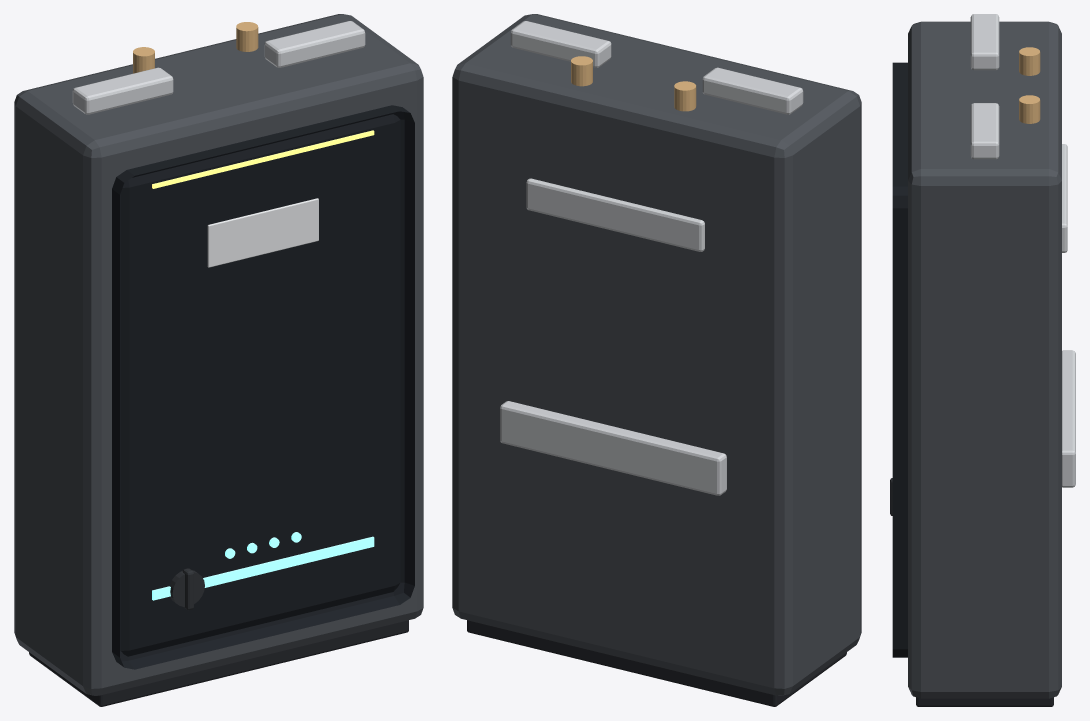
The model's file is inverter_battery.glb.
3 renders of one model, left to right at view 1: azimuth 30°, elevation 25°; view 2: azimuth 150°, elevation 25°; view 3: azimuth 270°, elevation 25°, orthographic. The views are drawn at different scales.
Parts seen in each view (by area): view 1: BAT_Glass, BAT_Shell, BAT_Badge, BAT_Plinth, BAT_HandleL, BAT_HandleR, BAT_LEDbar, BAT_Accent, INV_Iso, BAT_TermP; view 2: BAT_Shell, BAT_Bracket, INV_Bracket, BAT_Plinth, BAT_HandleL, BAT_HandleR, BAT_TermN, BAT_TermP; view 3: BAT_Shell, BAT_Glass, BAT_Bracket, BAT_HandleR, BAT_HandleL, BAT_Plinth, INV_Bracket, BAT_TermN, BAT_TermP.
Boxes of the visible parts, <box> form: BAT_Glass: <box>112,105,414,669</box>; BAT_Shell: <box>14,14,423,695</box>; BAT_Badge: <box>207,198,318,267</box>; BAT_Plinth: <box>29,620,408,706</box>; BAT_HandleL: <box>72,67,173,114</box>; BAT_HandleR: <box>264,21,365,67</box>; BAT_LEDbar: <box>152,536,374,600</box>; BAT_Accent: <box>152,130,374,188</box>; INV_Iso: <box>169,570,204,606</box>; BAT_TermP: <box>236,22,258,51</box>; BAT_Shell: <box>452,14,861,695</box>; BAT_Bracket: <box>500,401,726,495</box>; INV_Bracket: <box>526,178,704,251</box>; BAT_Plinth: <box>467,620,846,706</box>; BAT_HandleL: <box>702,67,803,114</box>; BAT_HandleR: <box>510,21,611,67</box>; BAT_TermN: <box>674,81,696,111</box>; BAT_TermP: <box>571,56,592,86</box>; BAT_Shell: <box>908,21,1061,698</box>; BAT_Glass: <box>892,62,907,657</box>; BAT_Bracket: <box>1062,350,1075,487</box>; BAT_HandleR: <box>970,103,999,159</box>; BAT_HandleL: <box>970,14,999,70</box>; BAT_Plinth: <box>916,697,1053,706</box>; INV_Bracket: <box>1062,144,1067,252</box>; BAT_TermN: <box>1019,47,1040,75</box>; BAT_TermP: <box>1019,95,1040,123</box>.
Size of the model in its own units: 0.46 by 0.762 by 0.229.
